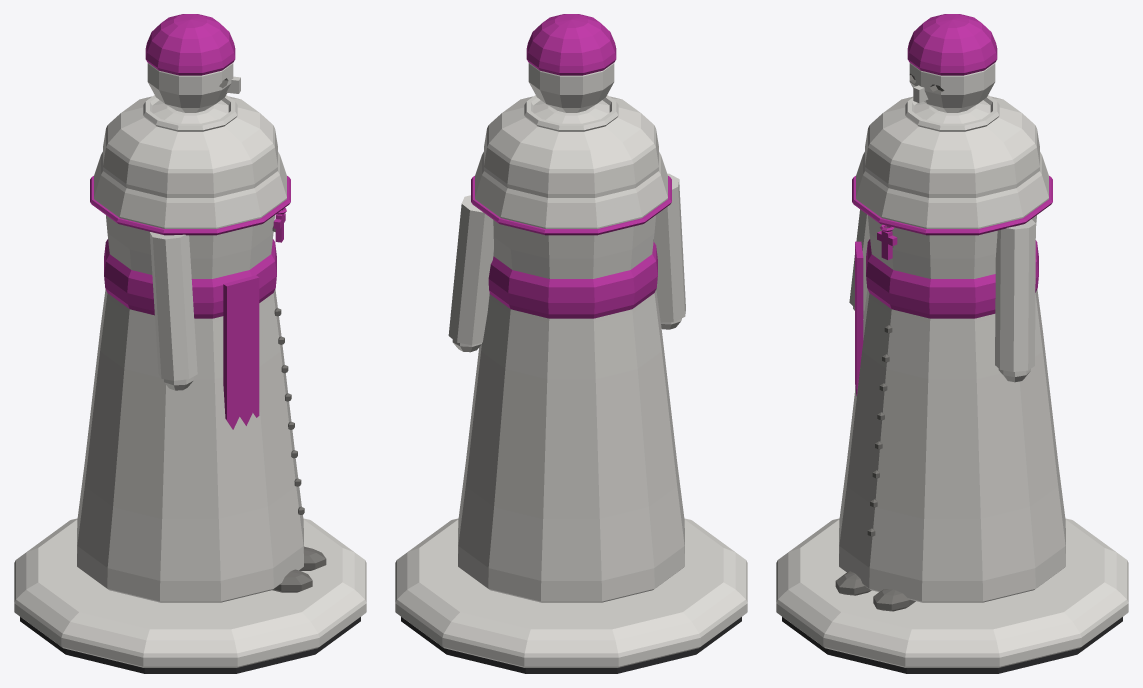
File: bishop_white.glb
3 views of the same model, side by side, from view 1: azimuth 30°, elevation 25°; view 2: azimuth 150°, elevation 25°; view 3: azimuth 270°, elevation 25° (orthographic).
Parts seen in each view (by area): view 1: Bishop_White; view 2: Bishop_White; view 3: Bishop_White.
Boxes of the visible parts, x1,y1,x2,y2 form: Bishop_White: [14, 14, 366, 673]; Bishop_White: [395, 14, 747, 673]; Bishop_White: [776, 14, 1128, 673].
Bounding box in the file's own units: 1.2 × 2.18 × 1.2.
